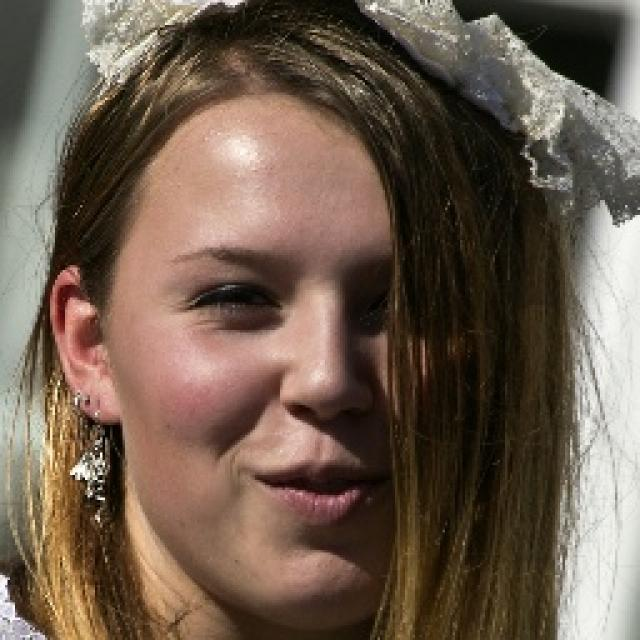earlobe: (51, 265, 126, 423)
